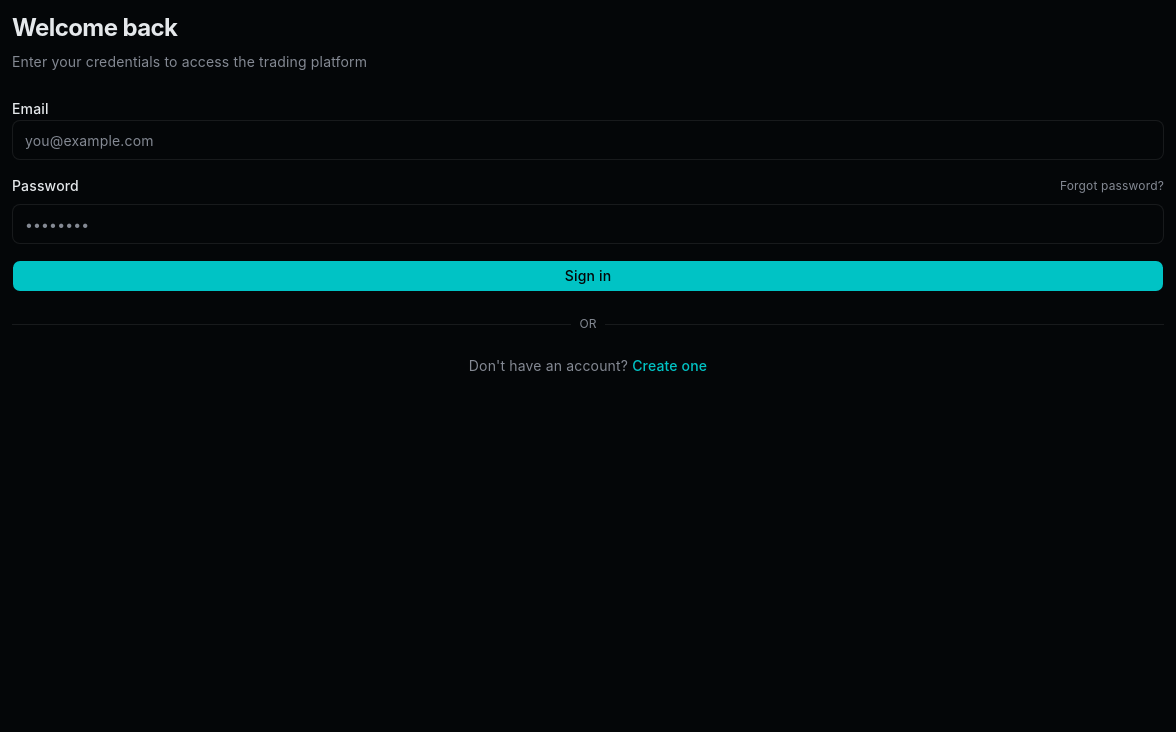
Scenario: LoginPage › shows unconfirmed email state with resend option
The width and height of the screenshot is (1176, 732).
Type "user@test.com" into the field labelled "Email" at [588, 140], box [12,120,1164,160]
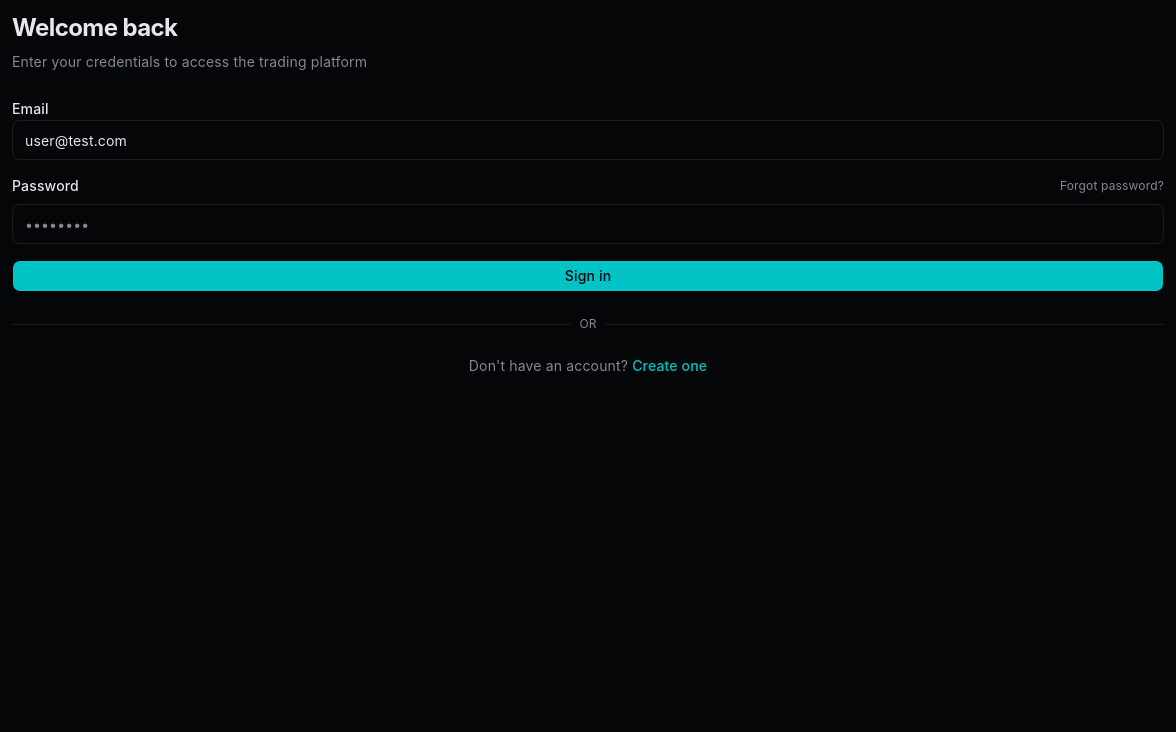
Type "password123" into the password field labelled "Password" at [588, 224], box [12,204,1164,244]
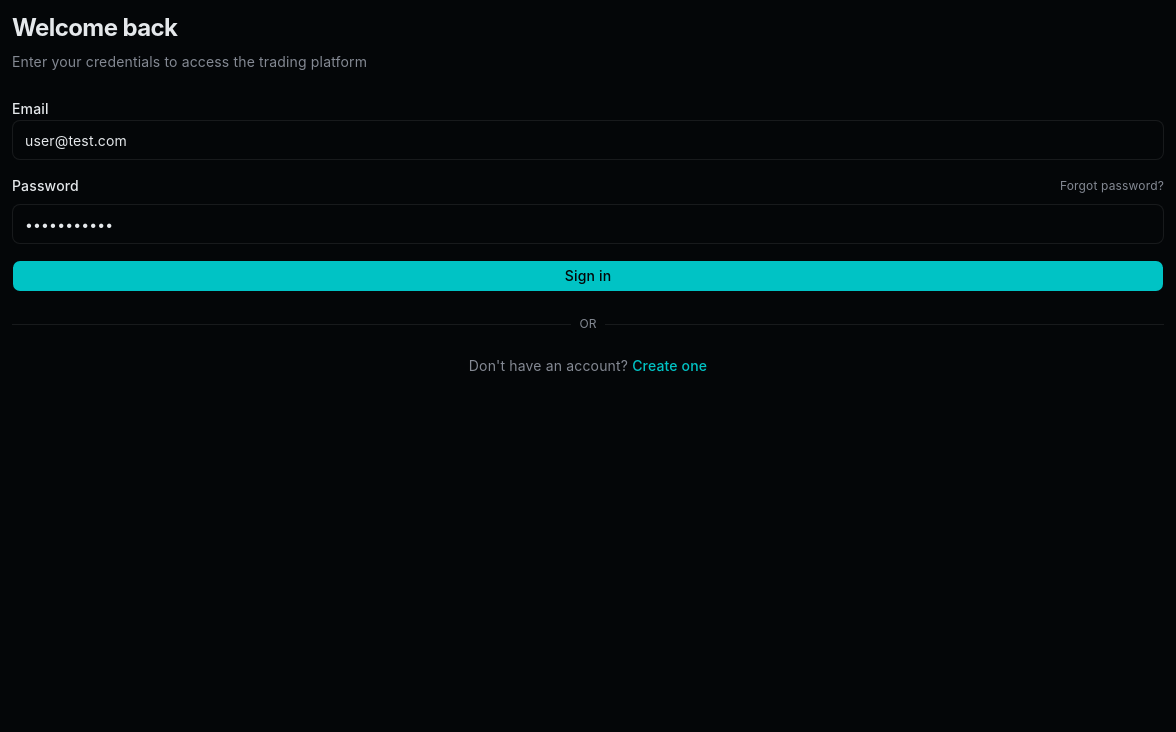
Click the button "Sign in" at [588, 276], box [12,260,1164,292]
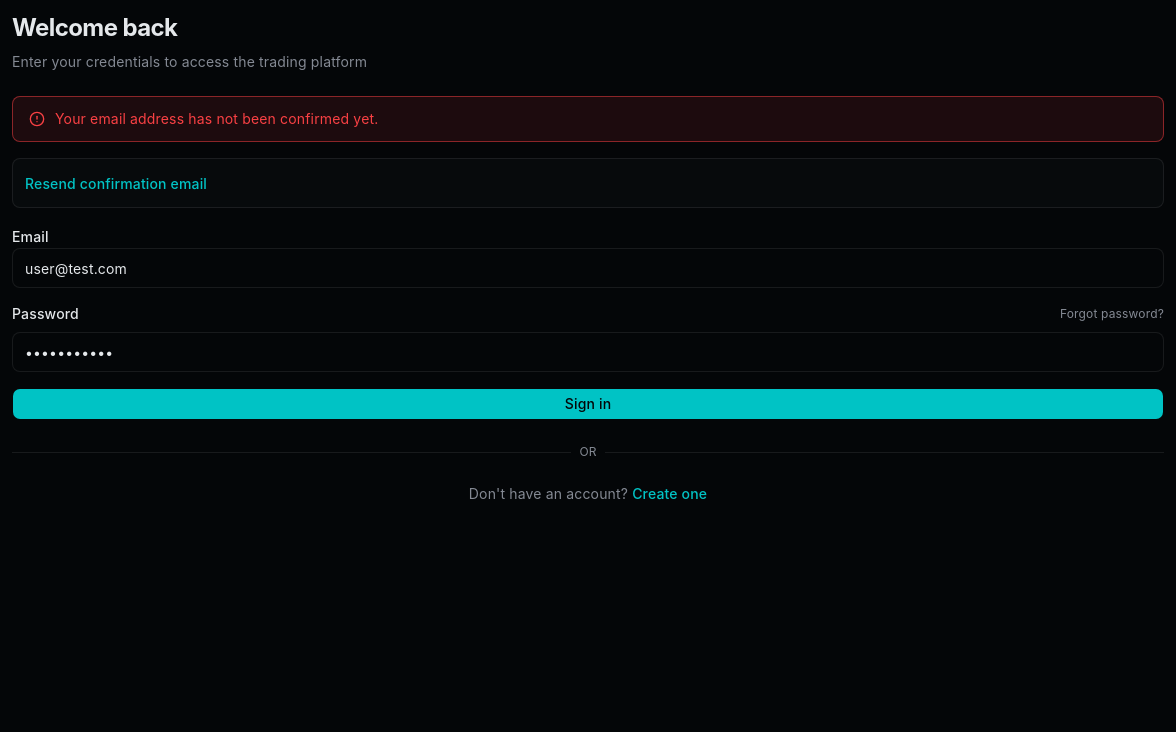
Now the text "Your email address has not been confirmed yet." is shown, box [55,109,378,129]
Now the button "Resend confirmation email" is shown, box [25,174,207,194]
